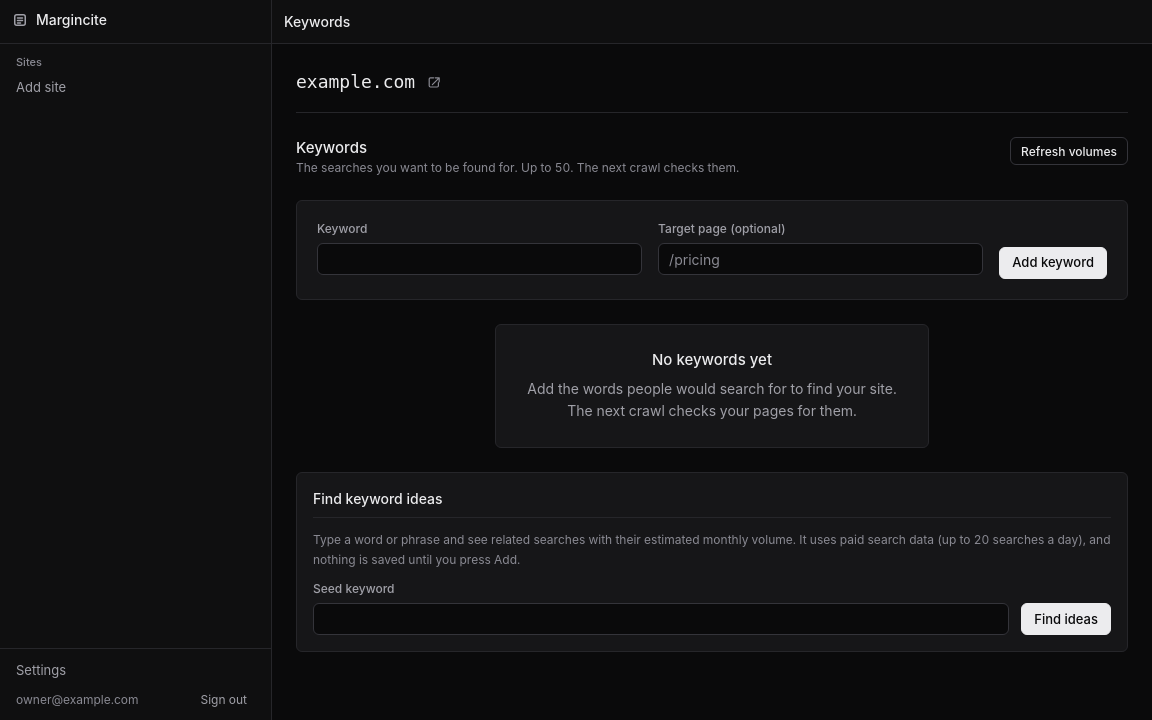
Test case: the server's reason is shown and the typed keyword stays
Type "atlas" into the field labelled "Keyword".
click(480, 259); type("atlas")  # box [317, 243, 642, 275]
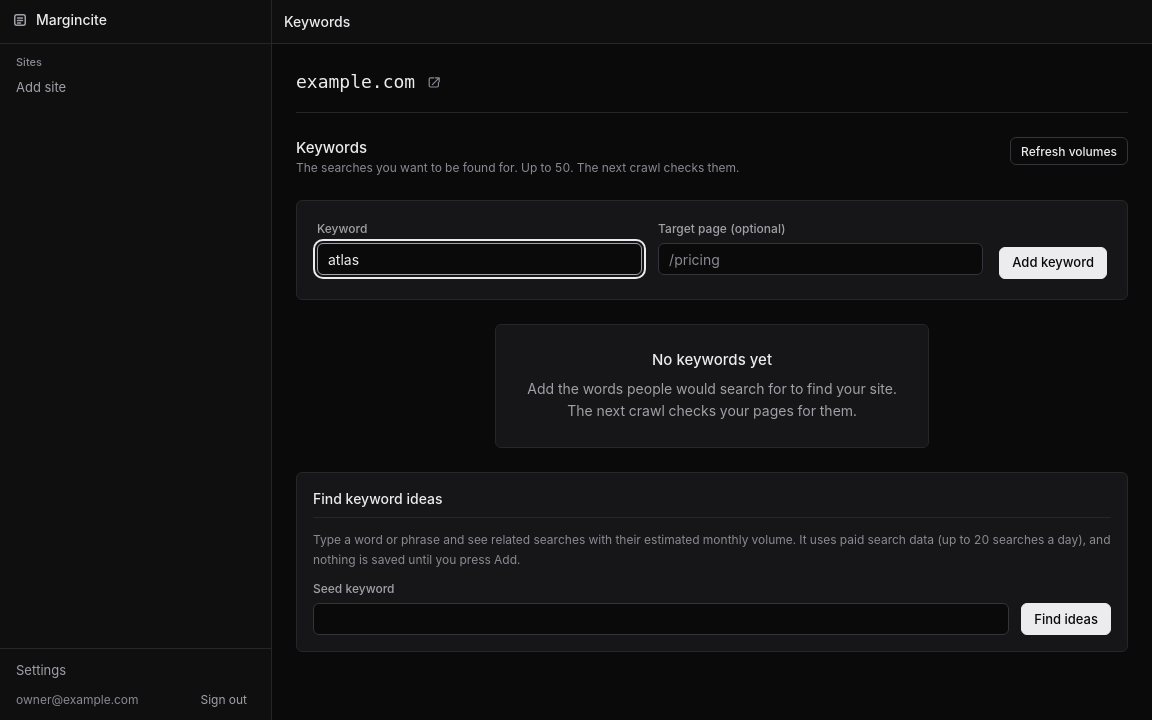
Click the button "Add keyword".
click(1053, 263)  # box [999, 247, 1107, 279]
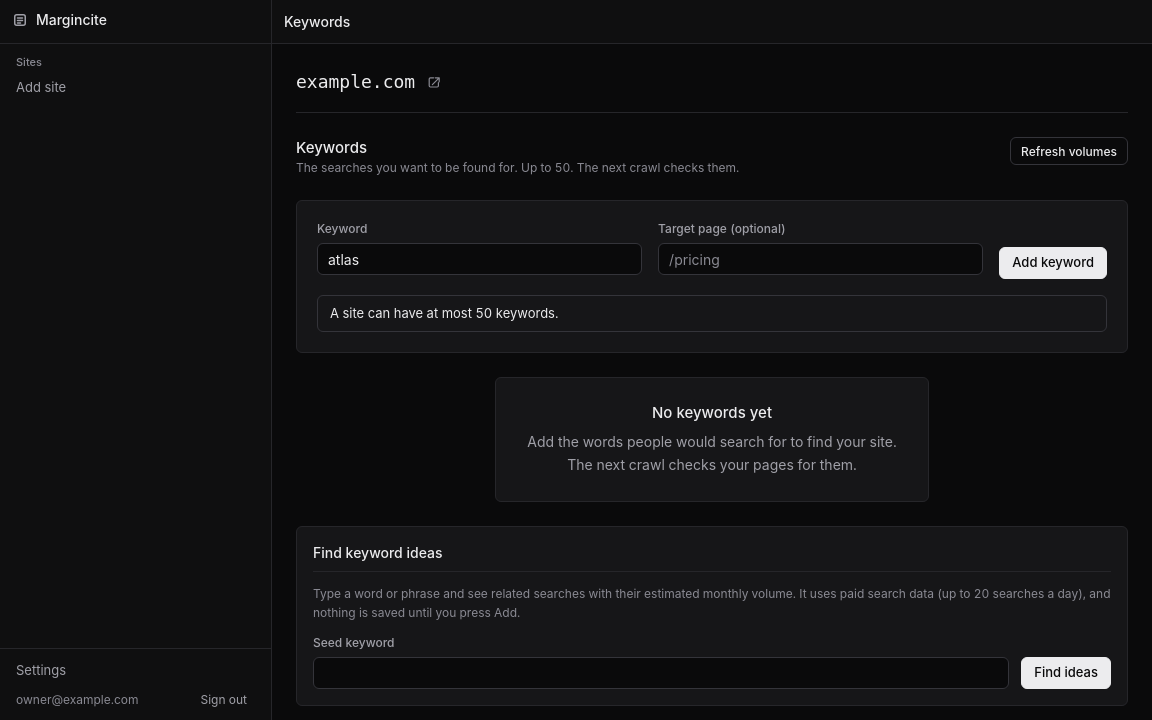
Now the text "A site can have at most 50 keywords." is shown, box [317, 295, 1107, 332]
